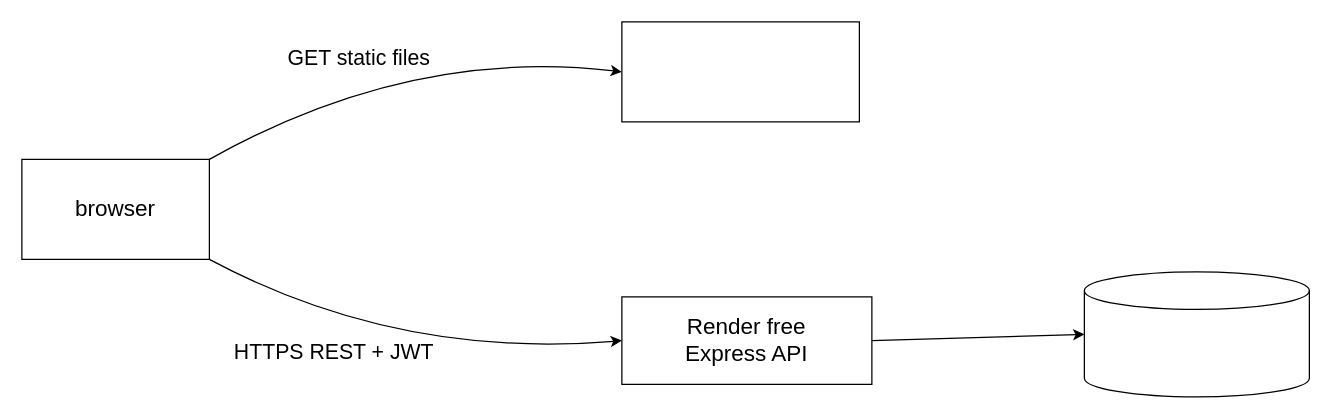
Image size: 1331x419. Some labels were removed from this diagram. Here are the shapes that lost their labels. From the top down, the centre of each, then its label:
pixel 740 71: Netlify static React build
pixel 1196 334: Neon PostgreSQL
